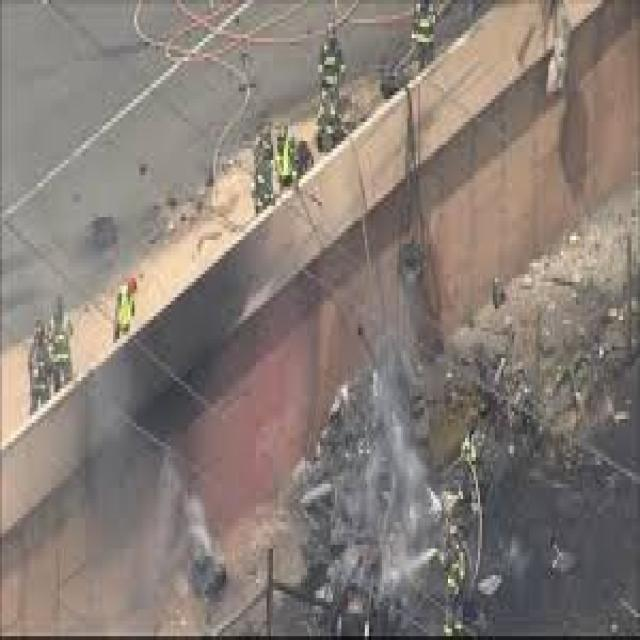Smoke: (286, 260, 464, 616), (73, 363, 237, 626)
